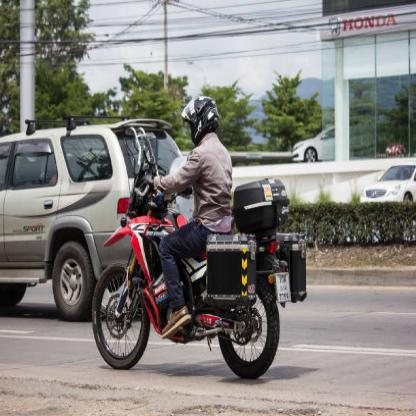Motorcycle: (89, 178, 286, 382)
